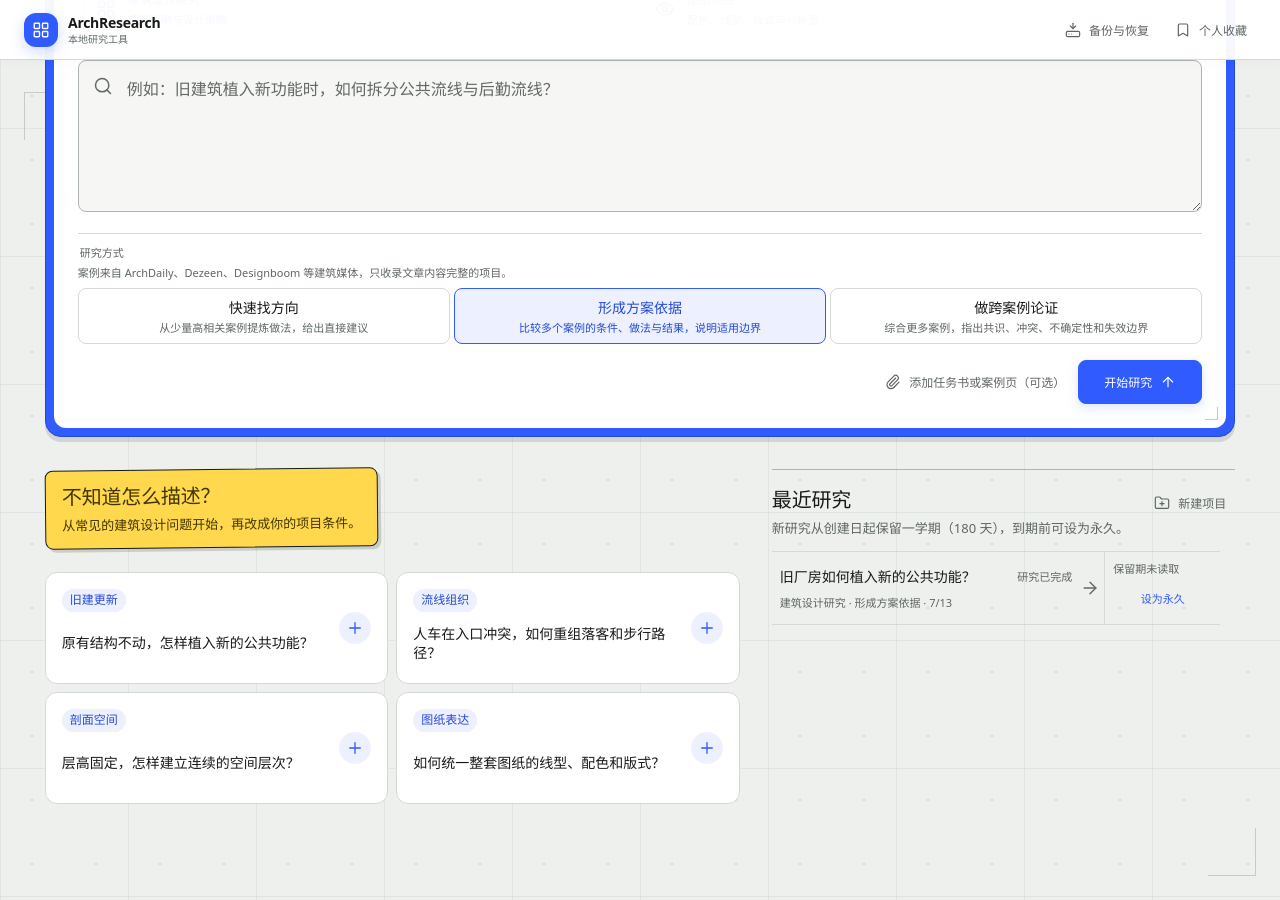
research board › saves an architectural project directly without entering case selection
(page scrolled)
Click the button "旧厂房如何植入新的公共功能？ 建筑设计研究 · 形成方案依据 · 7/13 研究已完成".
click(938, 588)  # box [772,552,1104,624]
(page scrolled)
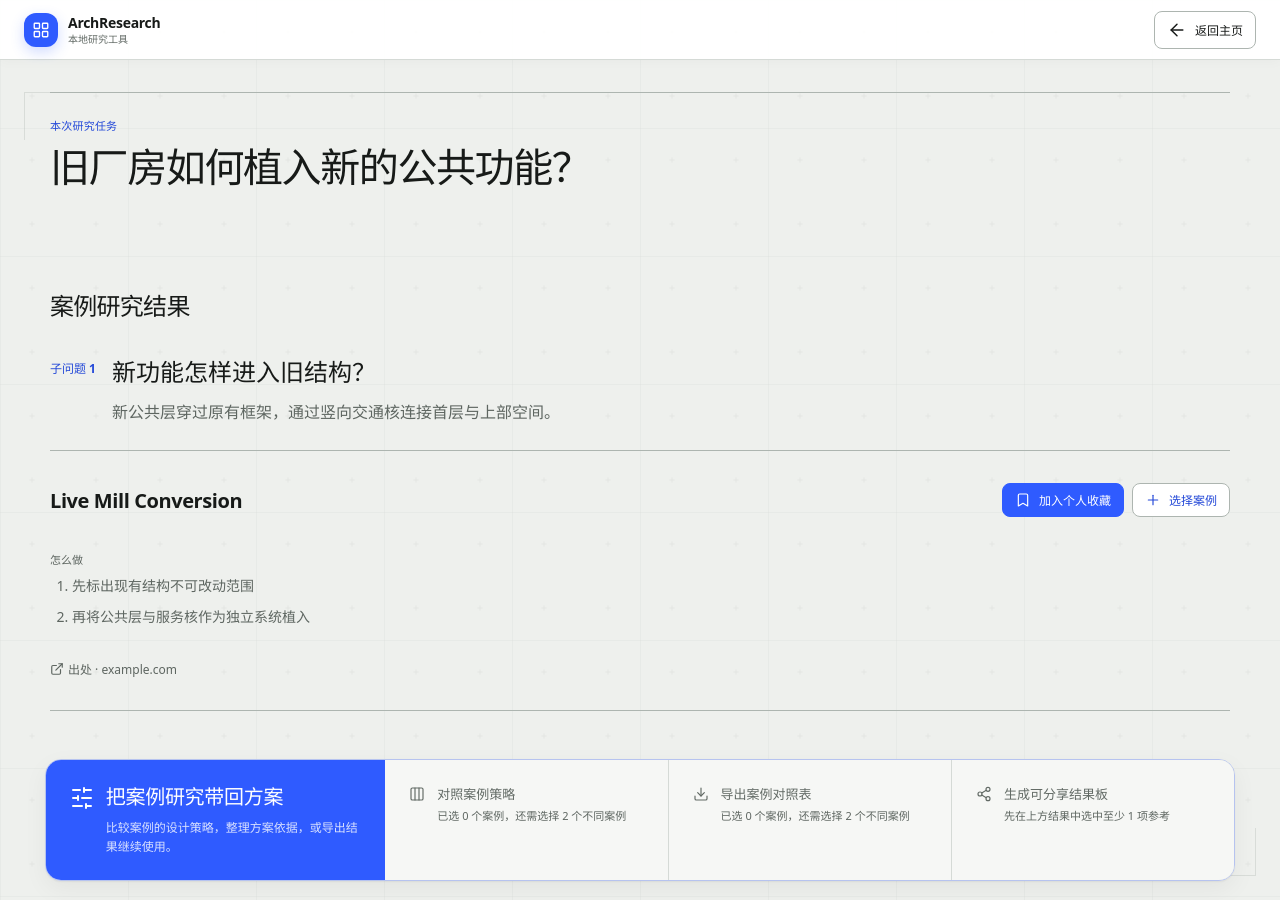
Result: the button with aria-label "加入个人收藏 Live Mill Conversion" is shown
Click the button with aria-label "加入个人收藏 Live Mill Conversion".
click(1063, 500)  # box [1002,483,1124,517]
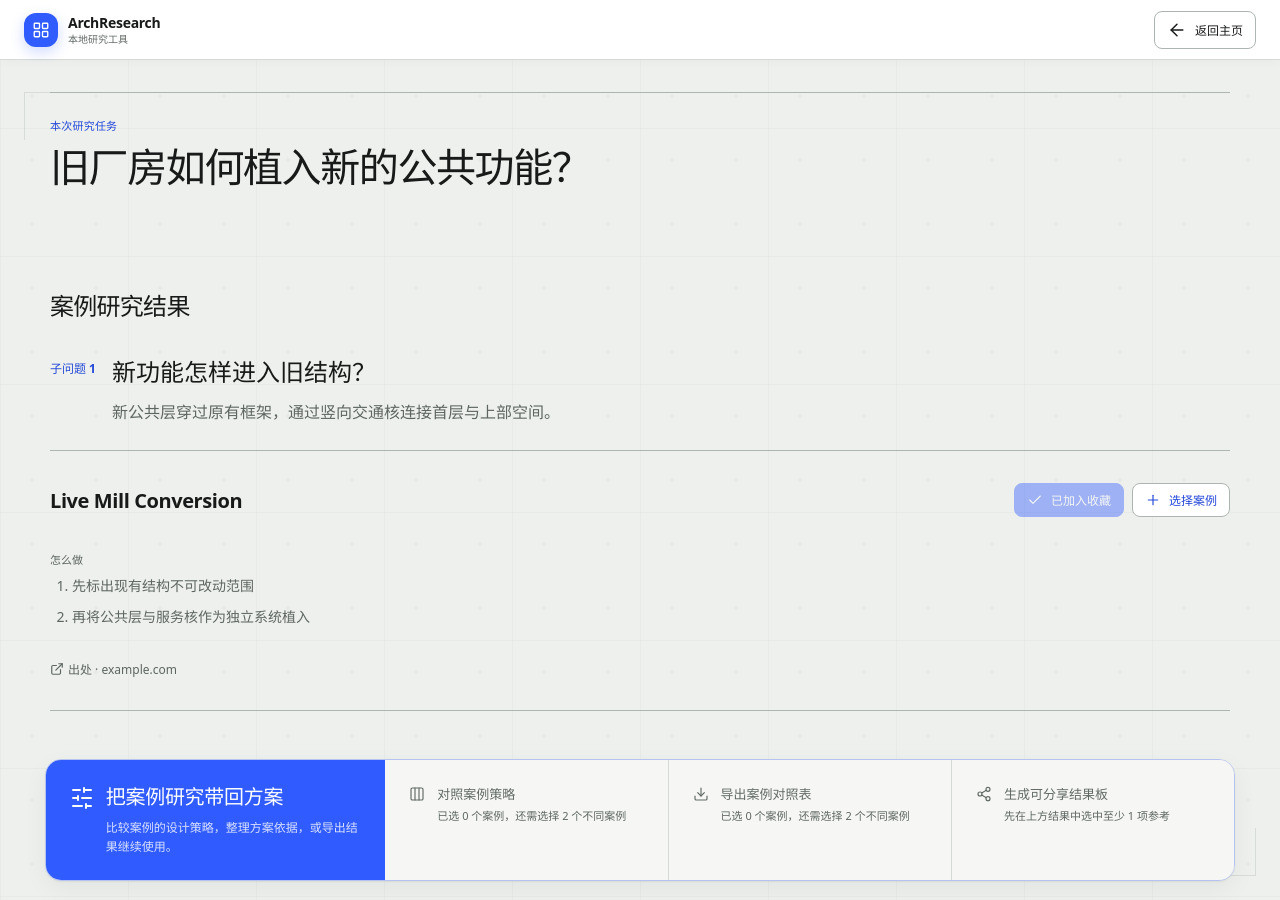
Result: the button with aria-label "已加入收藏 Live Mill Conversion" is disabled at [1014,483,1124,517]
